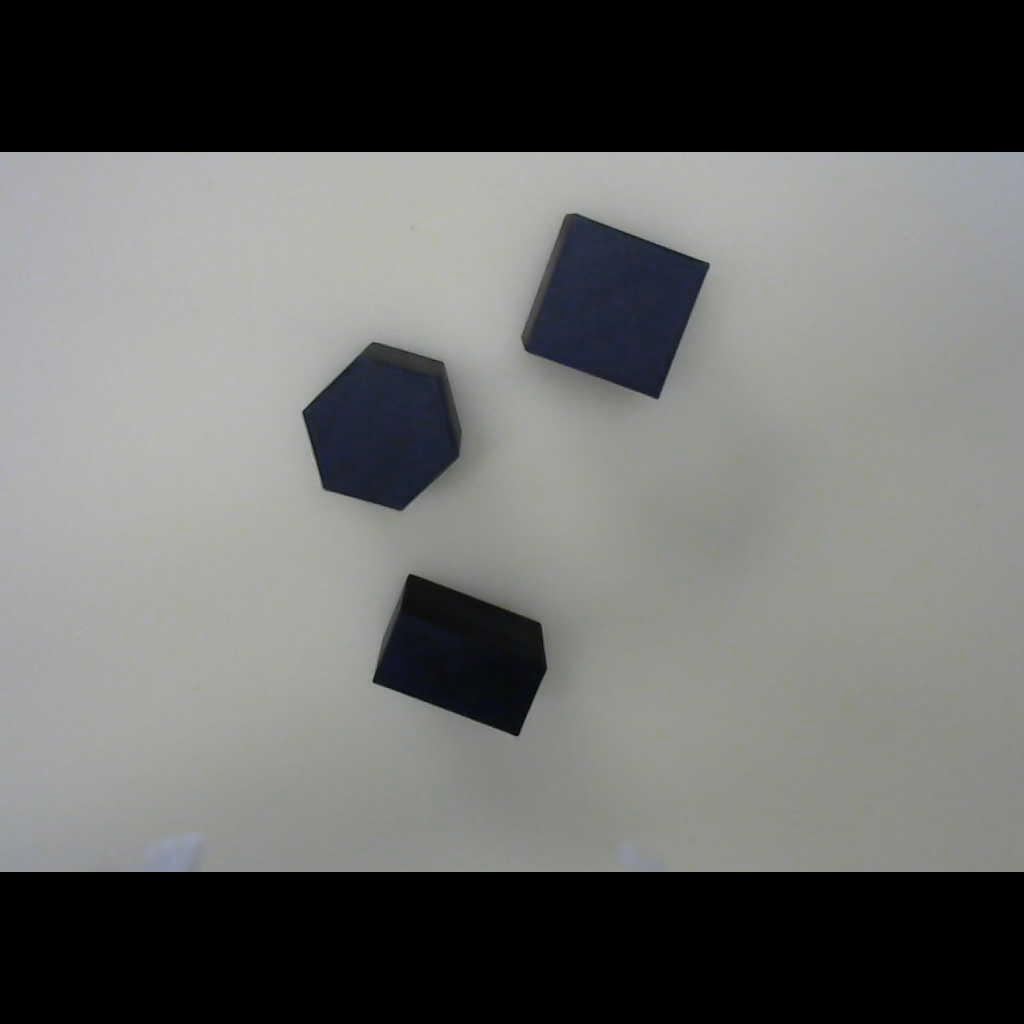hexagon: (264, 312, 502, 544)
rectangle: (354, 559, 574, 750)
square: (494, 190, 736, 421)
